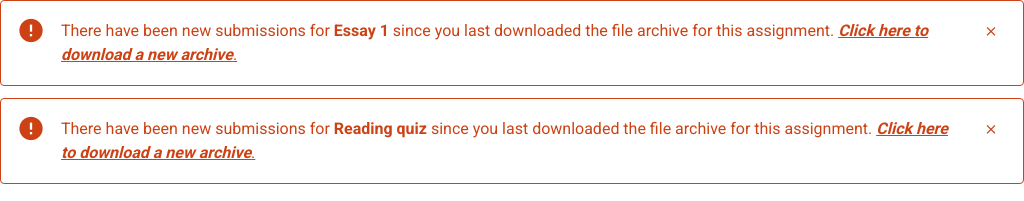
Scenario: NewSubmissionsAlerts › dismisses an alert and keeps it dismissed until there are newer submissions
Click the button named "Close" in the row of "Essay 1" at (991, 31), box x1=975 y1=15 x2=1007 y2=47
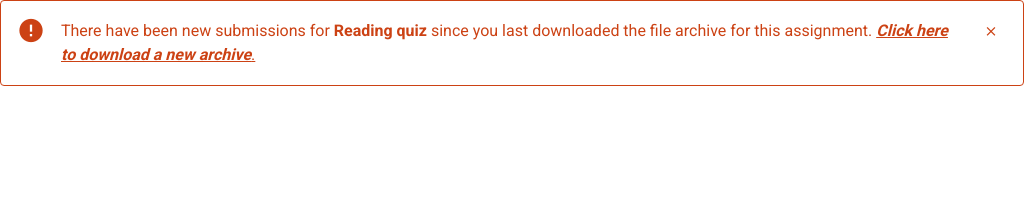
Expected: the number of messages with class "new-submissions-alert" is 1, x1=0 y1=0 x2=1023 y2=86
Expected: the text "Essay 1" is gone
